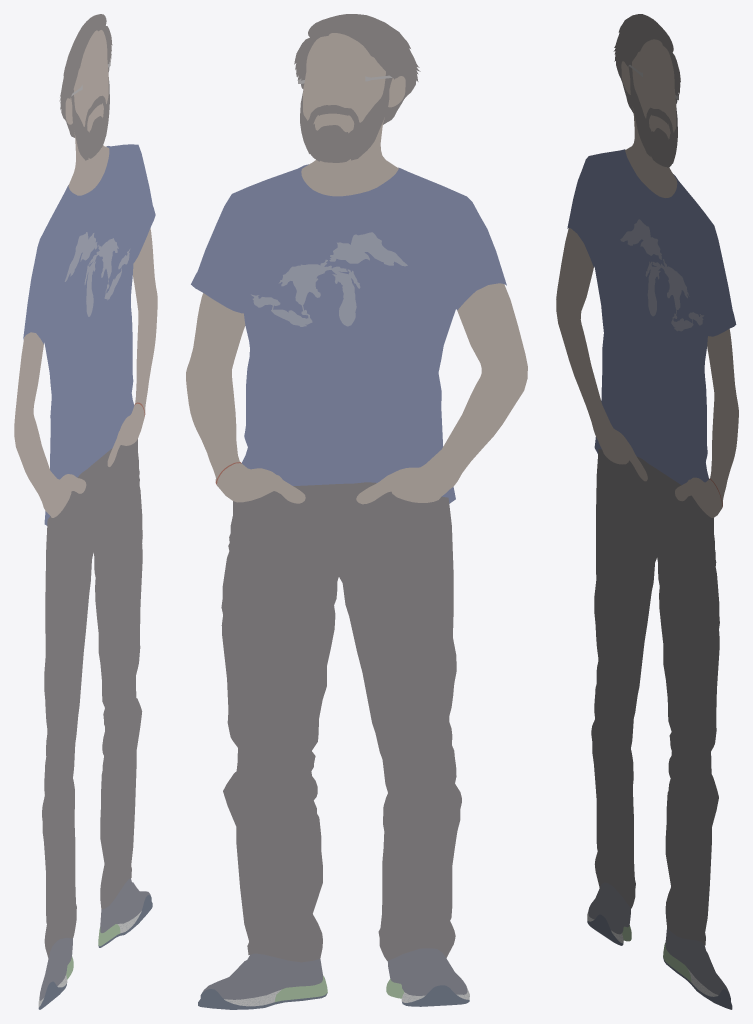
The model's file is standingperson.fbx.
3 views of the same model, side by side, from view 1: azimuth 30°, elevation 25°; view 2: azimuth 150°, elevation 25°; view 3: azimuth 270°, elevation 25° (orthographic). The views are drawn at different scales.
Parts seen in each view (by area): view 1: instance_0.005, instance_0, instance_0.021, instance_0.016, instance_0.001, instance_0.014, instance_0.026, instance_0.020, instance_0.022, instance_0.010, instance_0.018, instance_0.024 (+1 smaller); view 2: instance_0.005, instance_0, instance_0.021, instance_0.016, instance_0.001, instance_0.014, instance_0.026, instance_0.020, instance_0.022, instance_0.010, instance_0.018, instance_0.024 (+3 smaller); view 3: instance_0.005, instance_0, instance_0.021, instance_0.016, instance_0.001, instance_0.014, instance_0.026, instance_0.020, instance_0.022, instance_0.010, instance_0.018, instance_0.024 (+1 smaller).
Boxes of the visible parts, <box> form: instance_0.005: <box>42,439,142,958</box>; instance_0: <box>23,144,155,479</box>; instance_0.021: <box>14,332,86,517</box>; instance_0.016: <box>59,14,112,160</box>; instance_0.001: <box>132,228,157,412</box>; instance_0.014: <box>73,30,108,126</box>; instance_0.026: <box>106,658,139,747</box>; instance_0.020: <box>100,878,150,932</box>; instance_0.022: <box>68,132,109,195</box>; instance_0.010: <box>84,238,130,316</box>; instance_0.018: <box>39,937,72,1000</box>; instance_0.024: <box>107,403,144,466</box>; instance_0.005: <box>221,482,461,962</box>; instance_0: <box>191,164,506,485</box>; instance_0.021: <box>356,283,527,504</box>; instance_0.016: <box>294,14,420,162</box>; instance_0.001: <box>186,293,245,481</box>; instance_0.014: <box>303,33,385,122</box>; instance_0.026: <box>229,700,309,799</box>; instance_0.020: <box>203,953,322,999</box>; instance_0.022: <box>301,117,398,196</box>; instance_0.010: <box>251,259,360,326</box>; instance_0.018: <box>387,948,467,995</box>; instance_0.024: <box>217,463,305,503</box>; instance_0.005: <box>591,449,719,945</box>; instance_0: <box>567,149,736,485</box>; instance_0.021: <box>556,228,647,481</box>; instance_0.016: <box>613,14,680,167</box>; instance_0.001: <box>707,329,738,503</box>; instance_0.014: <box>632,39,676,132</box>; instance_0.026: <box>673,684,715,794</box>; instance_0.020: <box>665,927,729,994</box>; instance_0.022: <box>625,107,677,197</box>; instance_0.010: <box>645,259,703,331</box>; instance_0.018: <box>588,882,630,934</box>; instance_0.024: <box>675,477,722,517</box>.
Bounding box in the file's own units: 1856 × 7173 × 1253.
